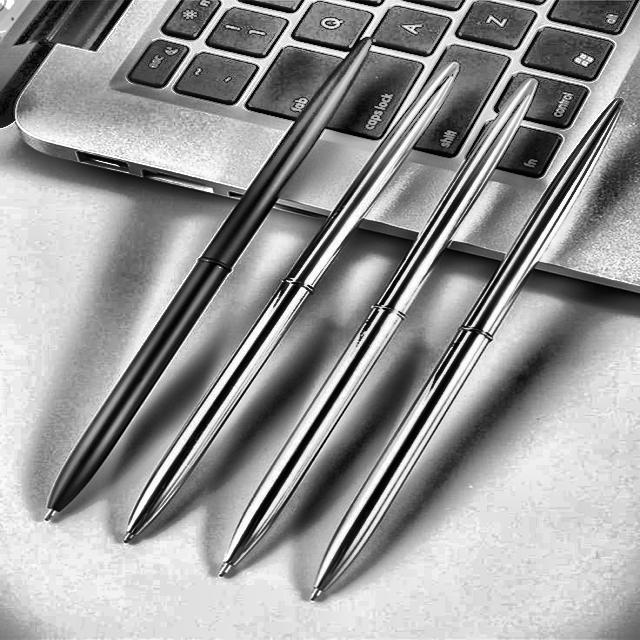Pen: (48, 24, 375, 519), (310, 103, 623, 603)
